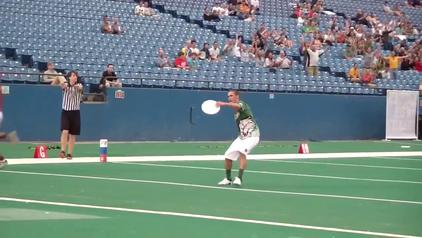down: (98, 15, 123, 32)
hands_up: (53, 61, 84, 162)
sit: (216, 114, 267, 188)
stay: (53, 61, 84, 162)
